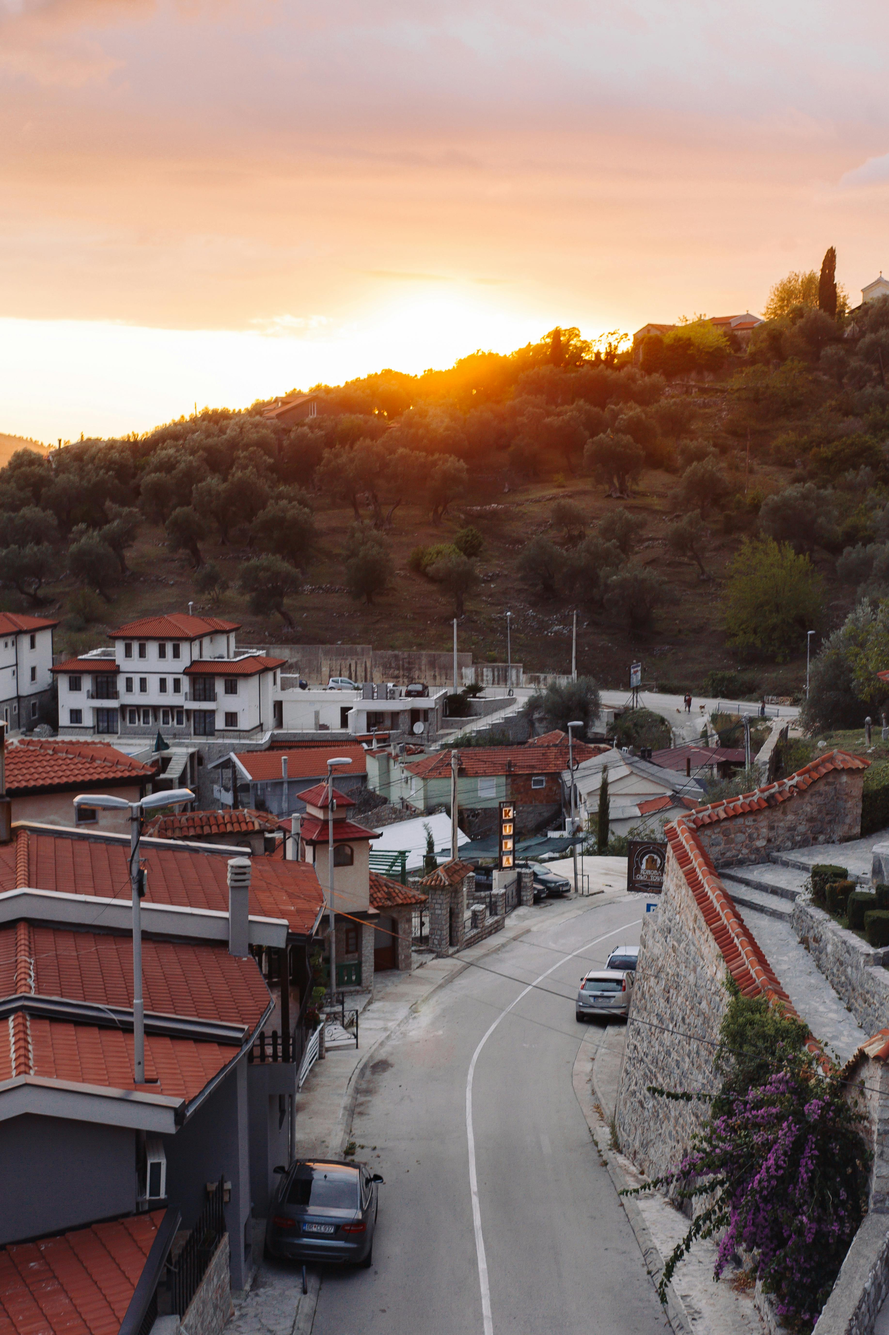other: (262, 1152, 376, 1276), (563, 961, 634, 1024)
